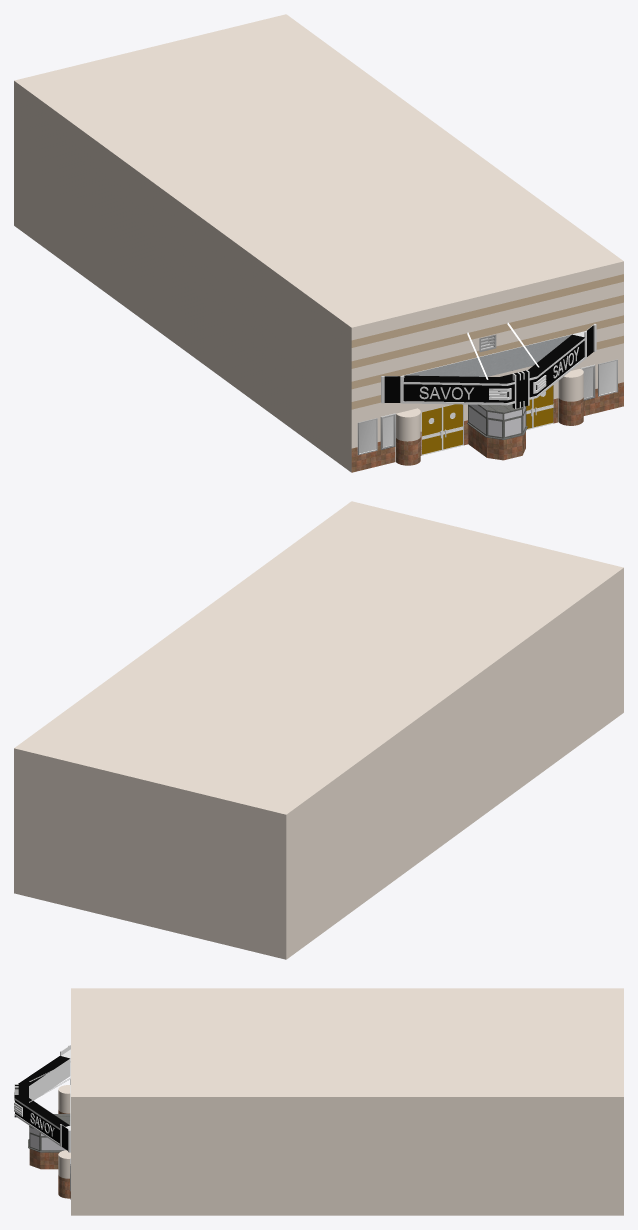
Rendered from savoy2.glb.
3 renders of one model, top to bottom at view 1: azimuth 30°, elevation 25°; view 2: azimuth 150°, elevation 25°; view 3: azimuth 270°, elevation 25°, orthographic. The views are drawn at different scales.
Parts seen in each view (by area): view 1: instance_0, instance_4.002, instance_0.022, instance_0.021, instance_4.003, instance_0.020, instance_4.011, instance_4.005, instance_3.021, instance_4, instance_3, instance_0.013 (+7 smaller); view 2: instance_0; view 3: instance_0, instance_4.005, instance_4.001, instance_4.003, instance_3.021, instance_4.010, instance_1, instance_3, instance_2.
Part boxes in pixels (x1,y1,x2,y2): instance_0: [14, 14, 623, 472]; instance_4.002: [405, 334, 571, 376]; instance_0.022: [351, 274, 623, 347]; instance_0.021: [351, 295, 623, 368]; instance_4.003: [381, 324, 596, 408]; instance_0.020: [351, 315, 623, 389]; instance_4.011: [403, 384, 514, 402]; instance_4.005: [404, 334, 584, 383]; instance_3.021: [468, 425, 525, 460]; instance_4: [384, 325, 593, 408]; instance_3: [467, 404, 527, 439]; instance_0.013: [351, 441, 395, 472]; instance_0: [14, 501, 623, 959]; instance_0: [71, 988, 623, 1215]; instance_4.005: [14, 1056, 69, 1127]; instance_4.001: [29, 1059, 70, 1100]; instance_4.003: [14, 1045, 70, 1152]; instance_3.021: [29, 1149, 58, 1169]; instance_4.010: [15, 1100, 59, 1143]; instance_1: [58, 1085, 70, 1113]; instance_3: [28, 1114, 70, 1152]; instance_2: [58, 1150, 70, 1178].
Bounding box in the file's own units: 11.38 × 5.79 × 26.95.
Materials: 12 (7 with a texture image).
